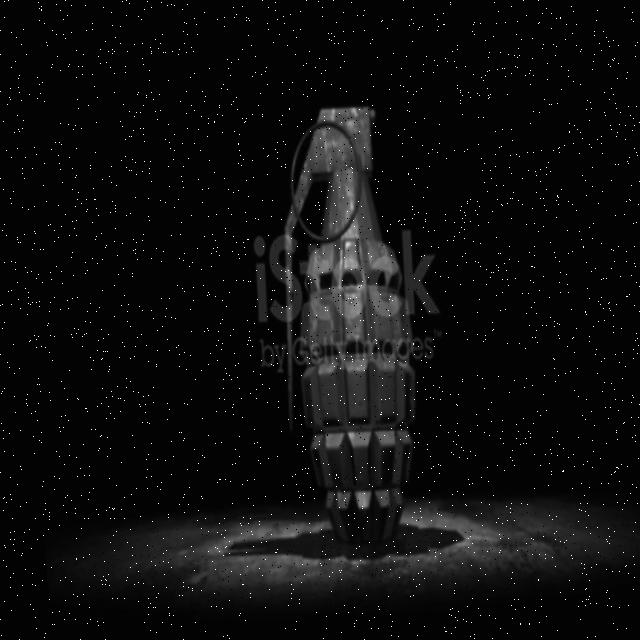grenade: (248, 89, 444, 558)
